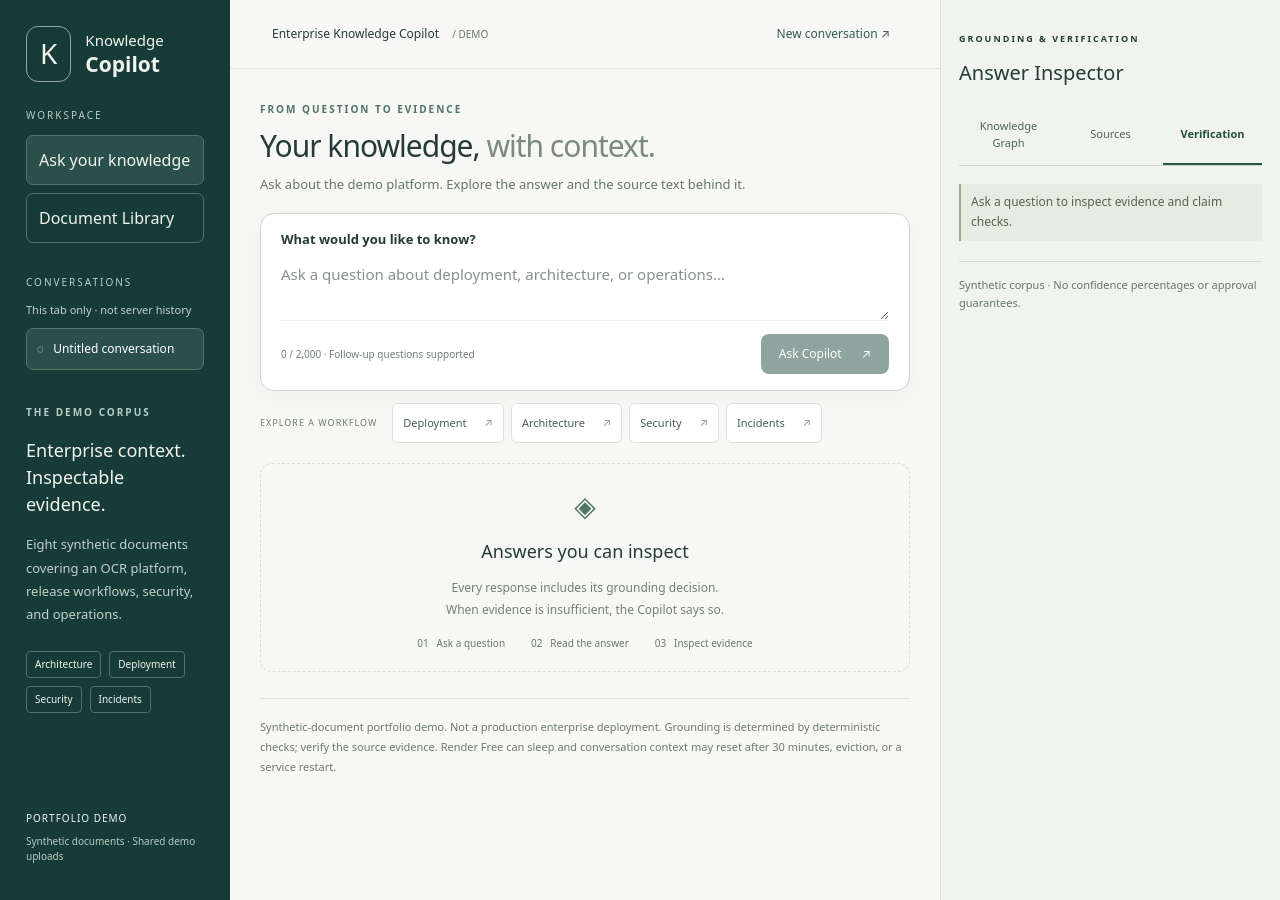
workspace › shows refusal without presenting retrieved chunks as citations
Step 1. Replace the text in the text box labelled "What would you like to know?" with "What are the steps to deploy?" → (585,291), box [281,262,889,320]
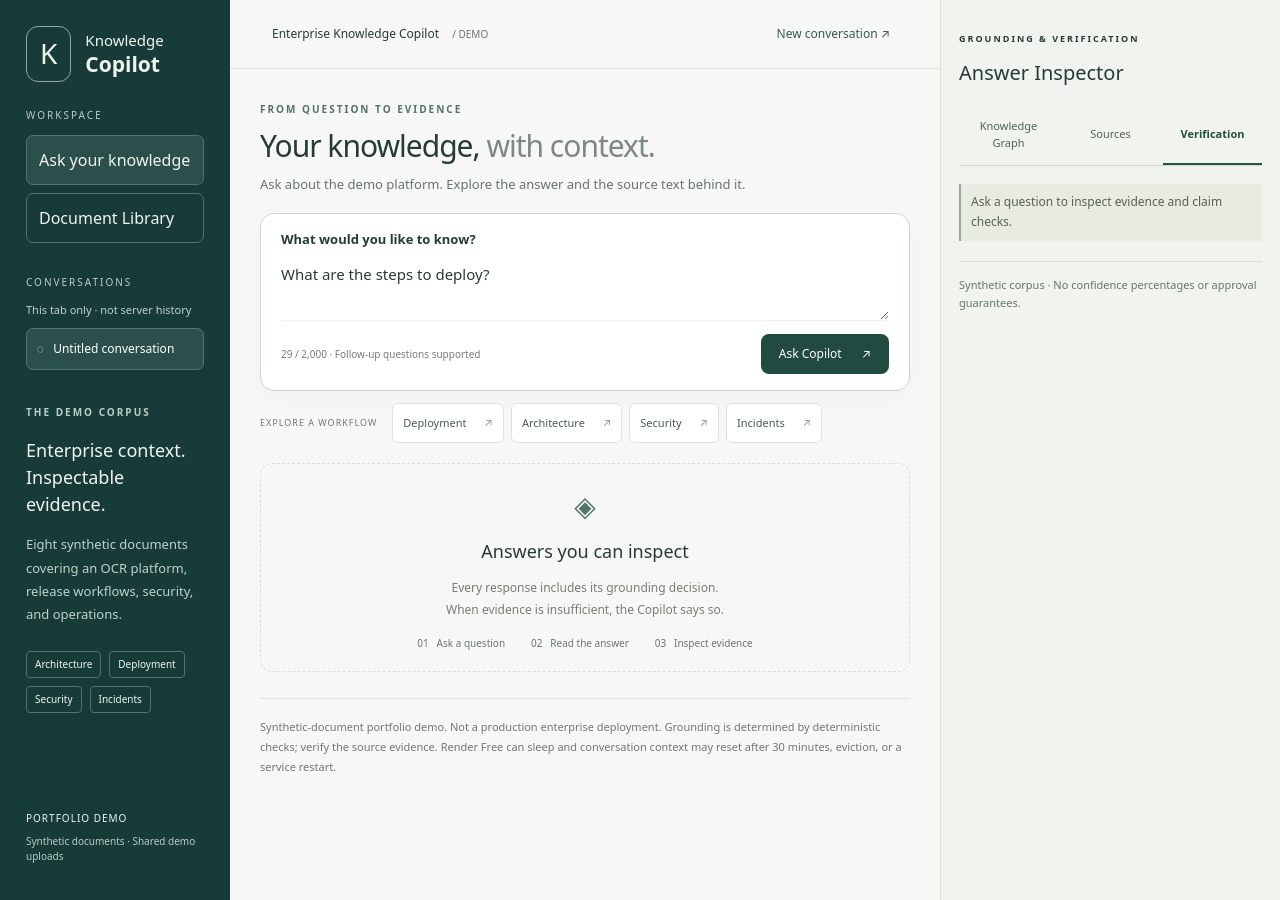
Step 2. Click the button "Ask Copilot ↗" → (825,354), box [761,334,889,374]
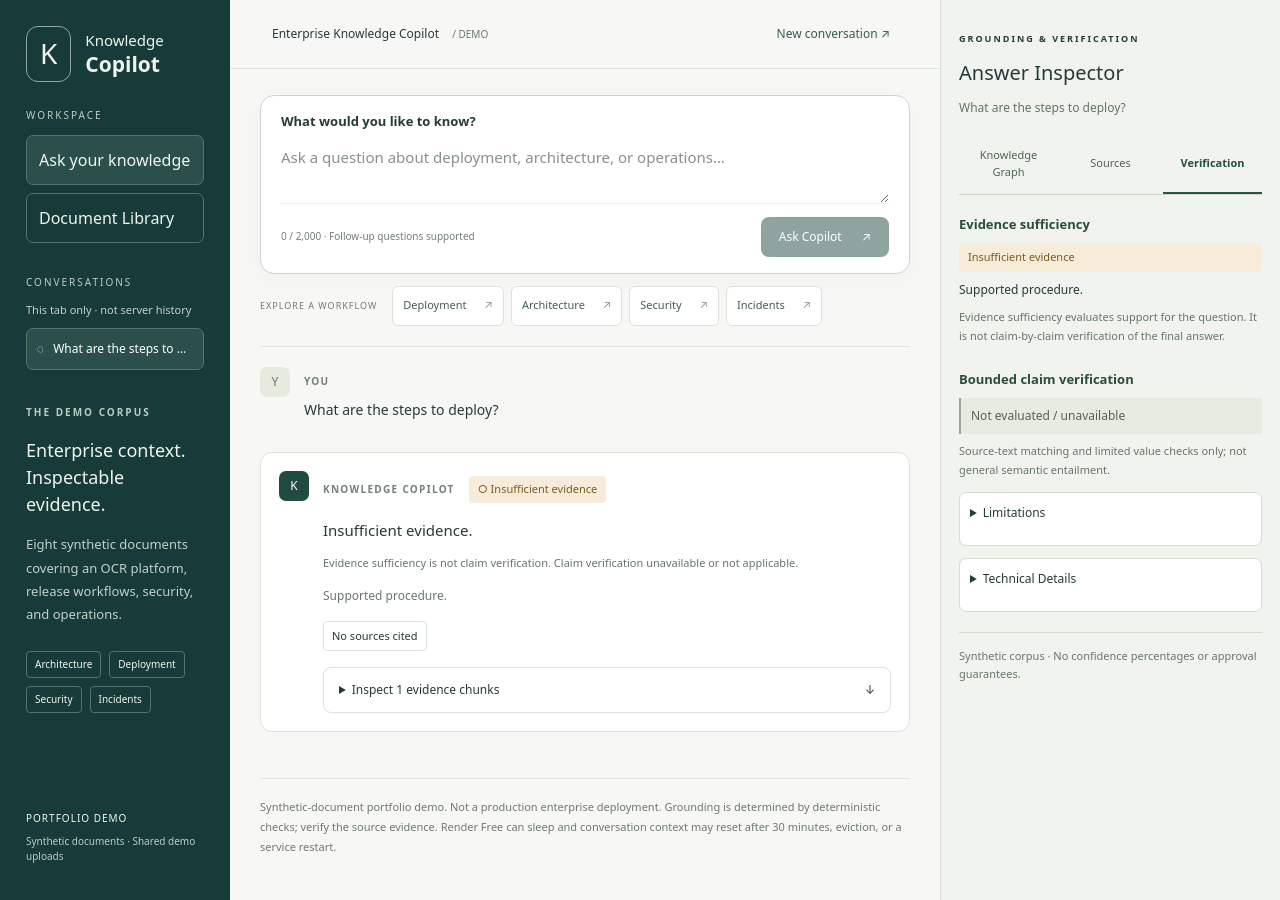
Result: the text "○ Insufficient evidence" is shown at [469,476,606,503]
Result: the text "No sources cited" is shown at [323,621,427,651]
